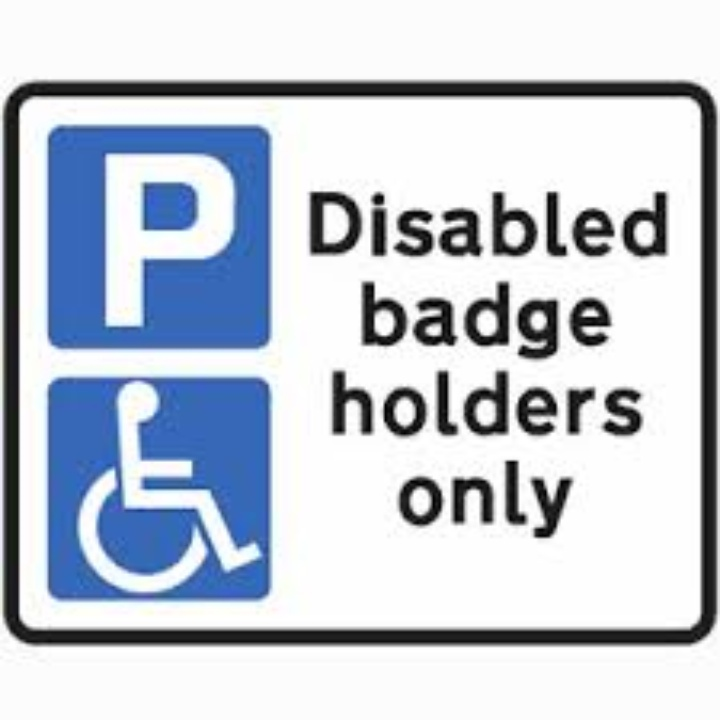parking: (104, 145, 246, 332)
